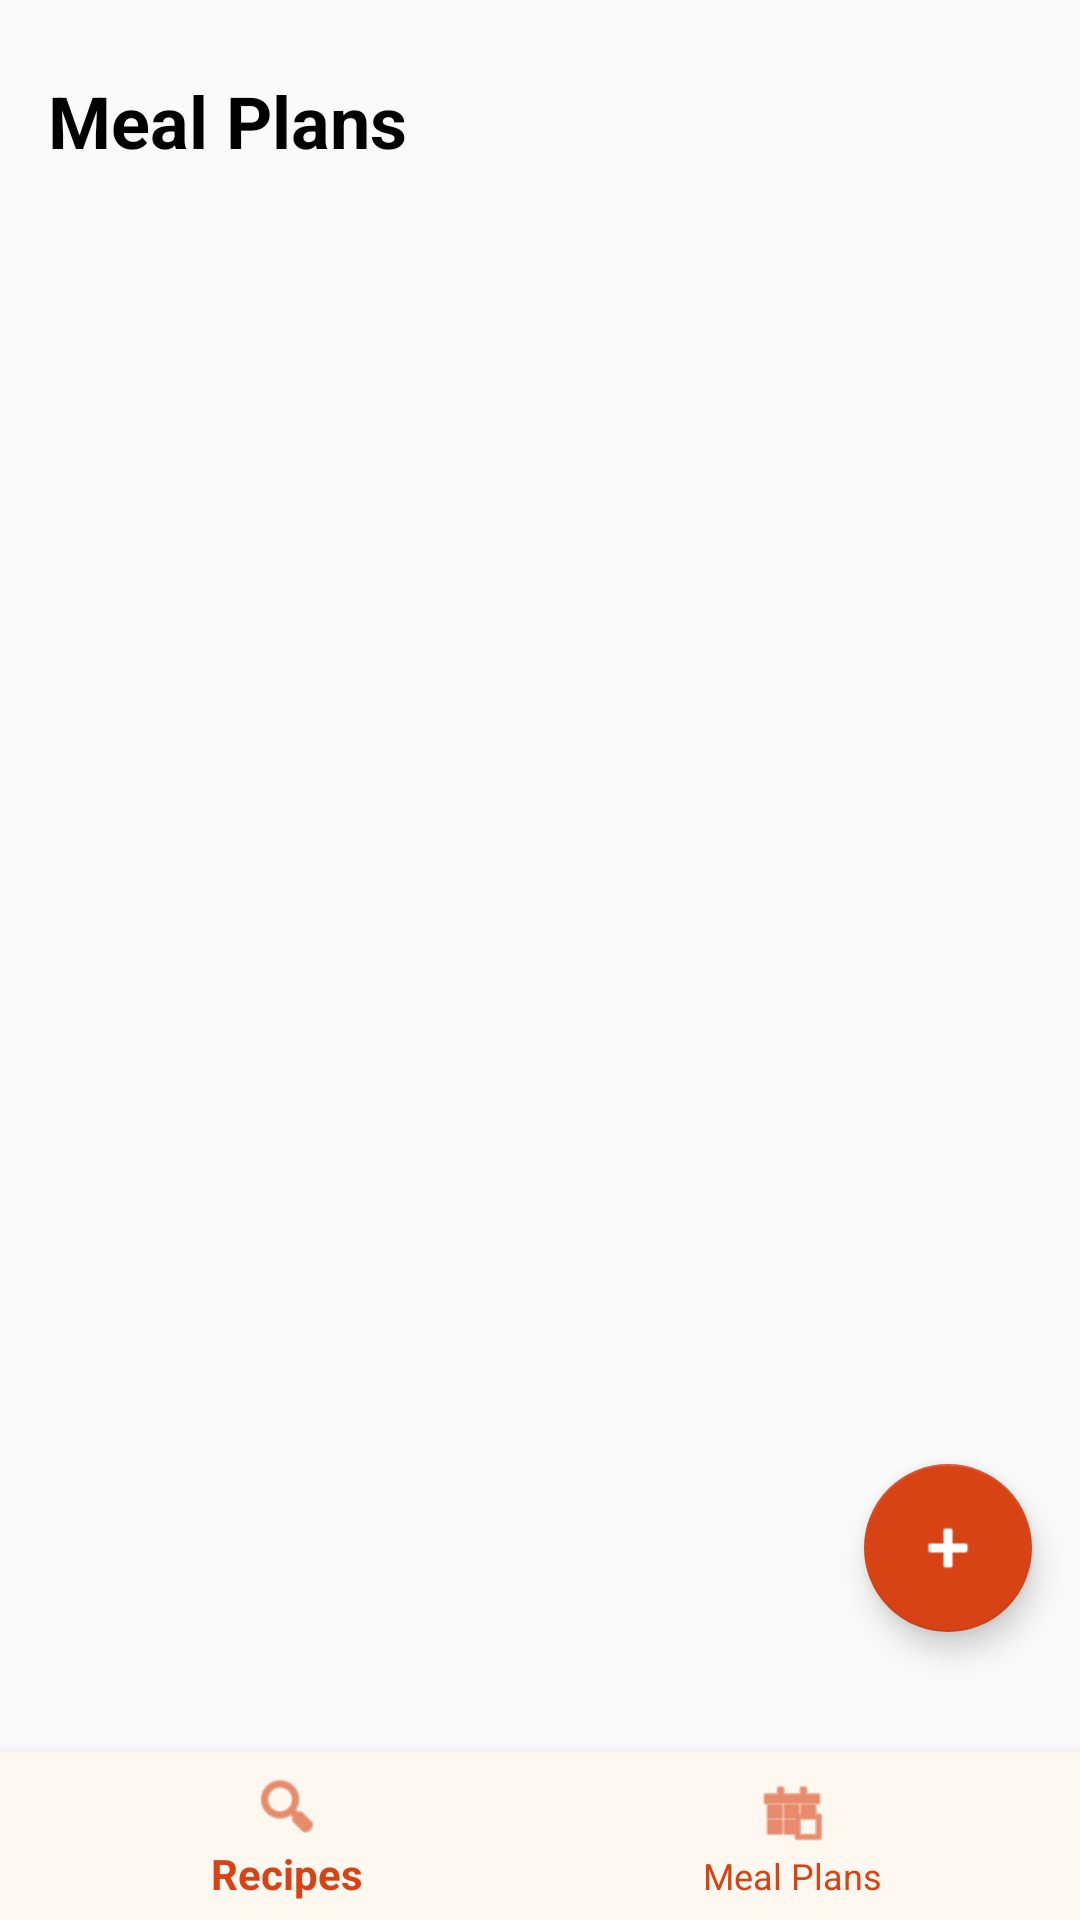

Icon bounding boxes for this 1080px×1920px phone screenshot, format [x1=x1, y1=y1, x2=x2, y2=y2]:
Add Meal Plan: [x1=864, y1=1464, x2=1032, y2=1632]
